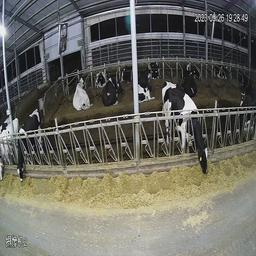cow: (157, 78, 210, 186), (11, 96, 44, 185), (235, 86, 254, 153), (69, 71, 94, 115), (101, 72, 127, 110), (175, 60, 200, 97), (147, 49, 167, 79), (136, 62, 151, 101), (94, 62, 110, 91)
